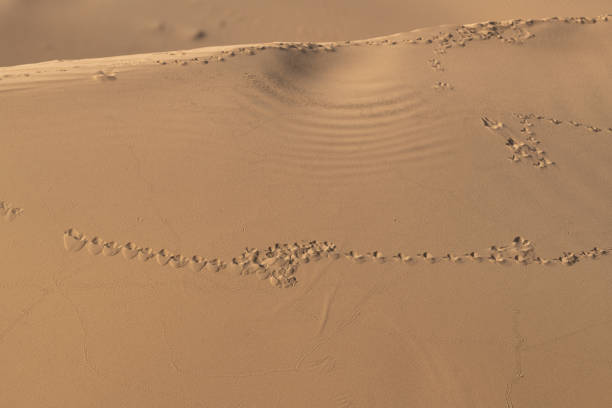animal_footprint: (63, 228, 611, 287), (481, 117, 554, 167), (514, 113, 603, 132), (0, 200, 22, 221)
